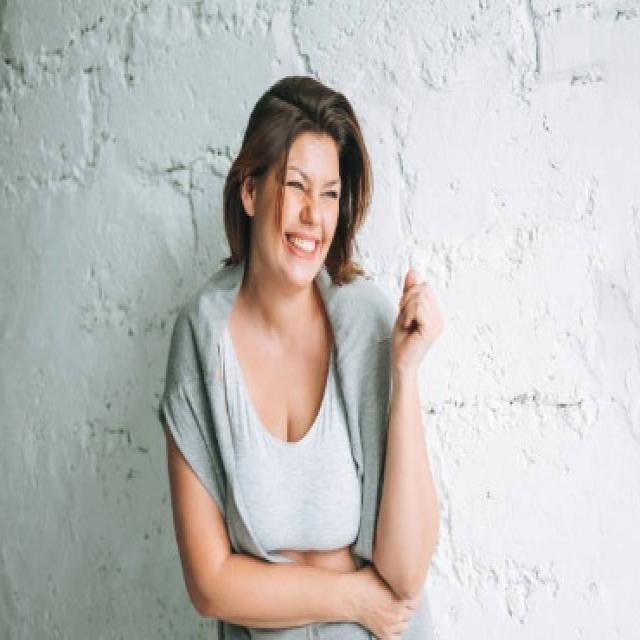adult: (160, 73, 445, 640)
